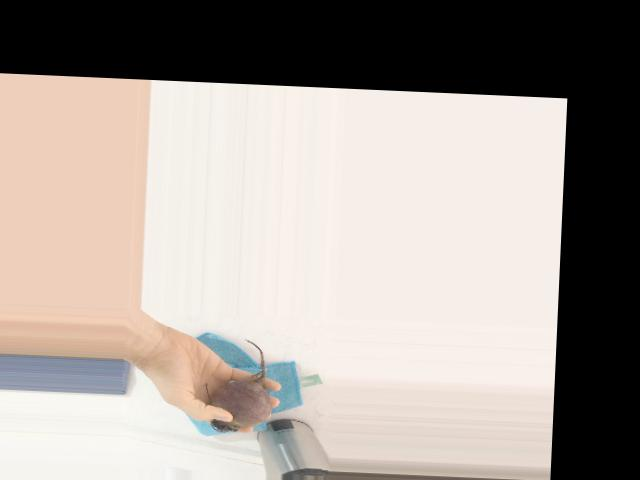beet: (204, 337, 275, 434)
